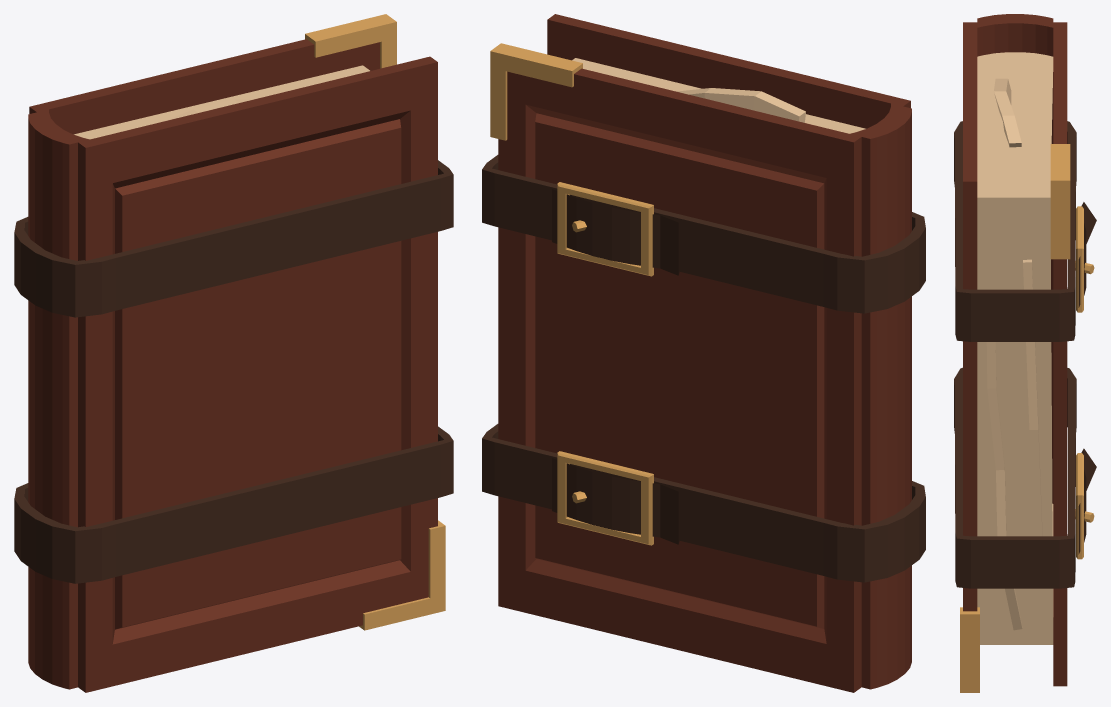
Rendered from Grand_Livre.fbx.
The picture shows the model from 3 angles, left to right: view 1: azimuth 30°, elevation 25°; view 2: azimuth 150°, elevation 25°; view 3: azimuth 270°, elevation 25°; orthographic projection. The views are drawn at different scales.
Parts seen in each view (by area): view 1: LIVRE.001; view 2: LIVRE.001; view 3: LIVRE.001.
Part boxes in pixels (left/top/right/bottom): LIVRE.001: left=14, top=14, right=453, bottom=692; LIVRE.001: left=482, top=14, right=925, bottom=692; LIVRE.001: left=954, top=14, right=1096, bottom=692.
Bounding box in the file's own units: 21.7 × 28.96 × 7.29.
